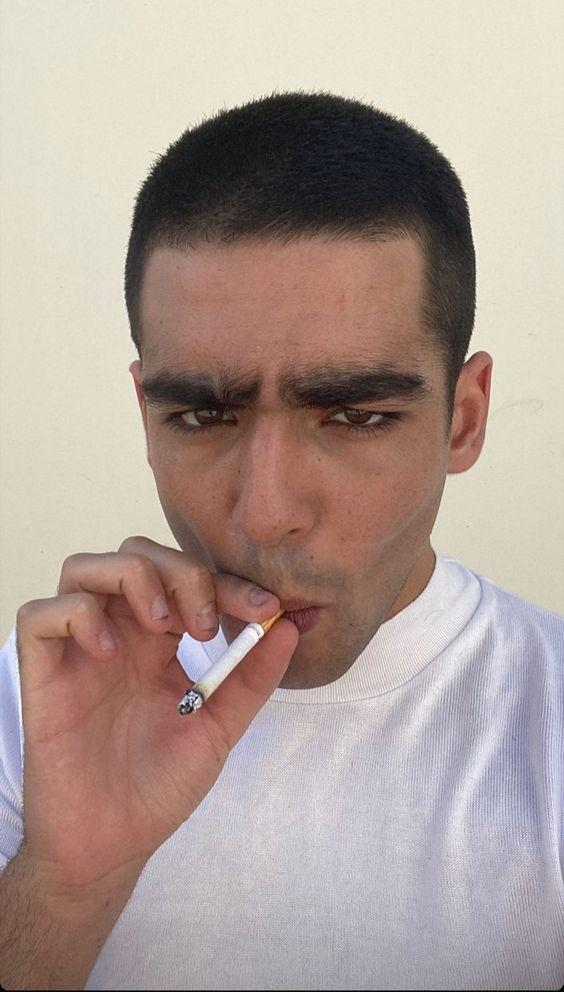cigarette: (176, 607, 283, 714)
